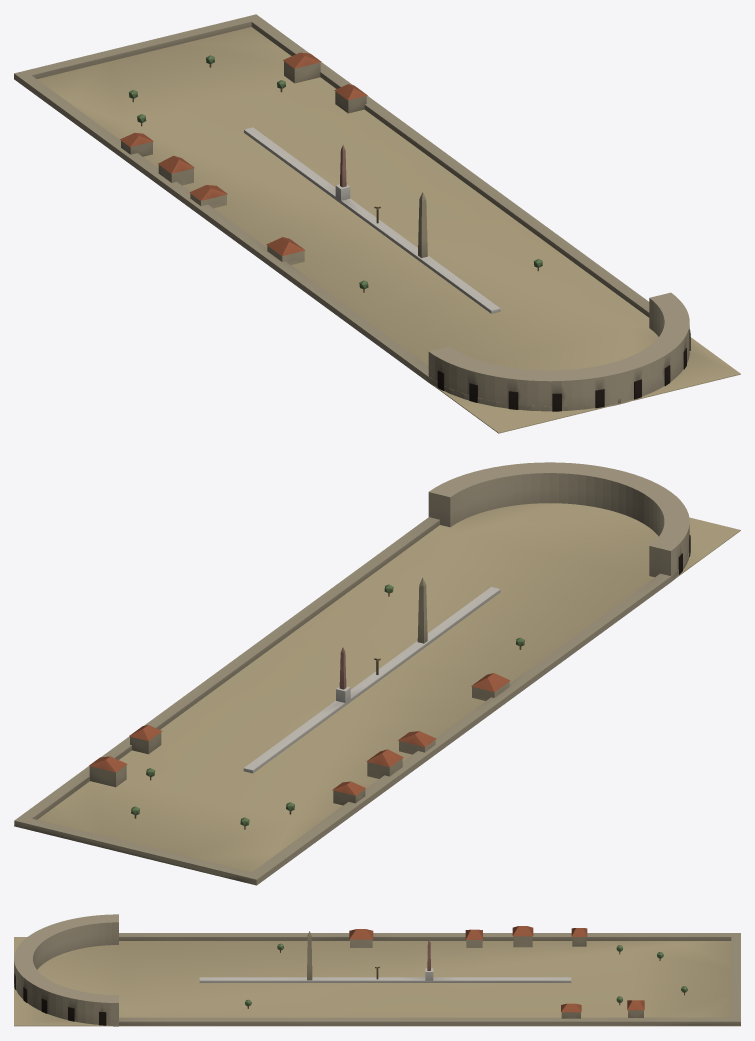
File: hippodrome-ruin.glb
The picture shows the model from 3 angles, top to bottom: view 1: azimuth 30°, elevation 25°; view 2: azimuth 150°, elevation 25°; view 3: azimuth 270°, elevation 25°; orthographic projection. The views are drawn at different scales.
Visible parts, largest first — view 1: p0_seating, p1_houses, p2_monuments; view 2: p0_seating, p1_houses, p2_monuments; view 3: p0_seating, p2_monuments, p1_houses.
Part boxes in pixels (bbox=[...]): p0_seating: bbox=[14, 14, 740, 433]; p1_houses: bbox=[120, 52, 542, 292]; p2_monuments: bbox=[244, 127, 500, 313]; p0_seating: bbox=[14, 462, 740, 885]; p1_houses: bbox=[89, 584, 524, 829]; p2_monuments: bbox=[243, 577, 500, 773]; p0_seating: bbox=[14, 914, 740, 1026]; p2_monuments: bbox=[199, 931, 571, 982]; p1_houses: bbox=[245, 926, 687, 1018].
Bounding box in the file's own units: 130 × 35.26 × 450.
